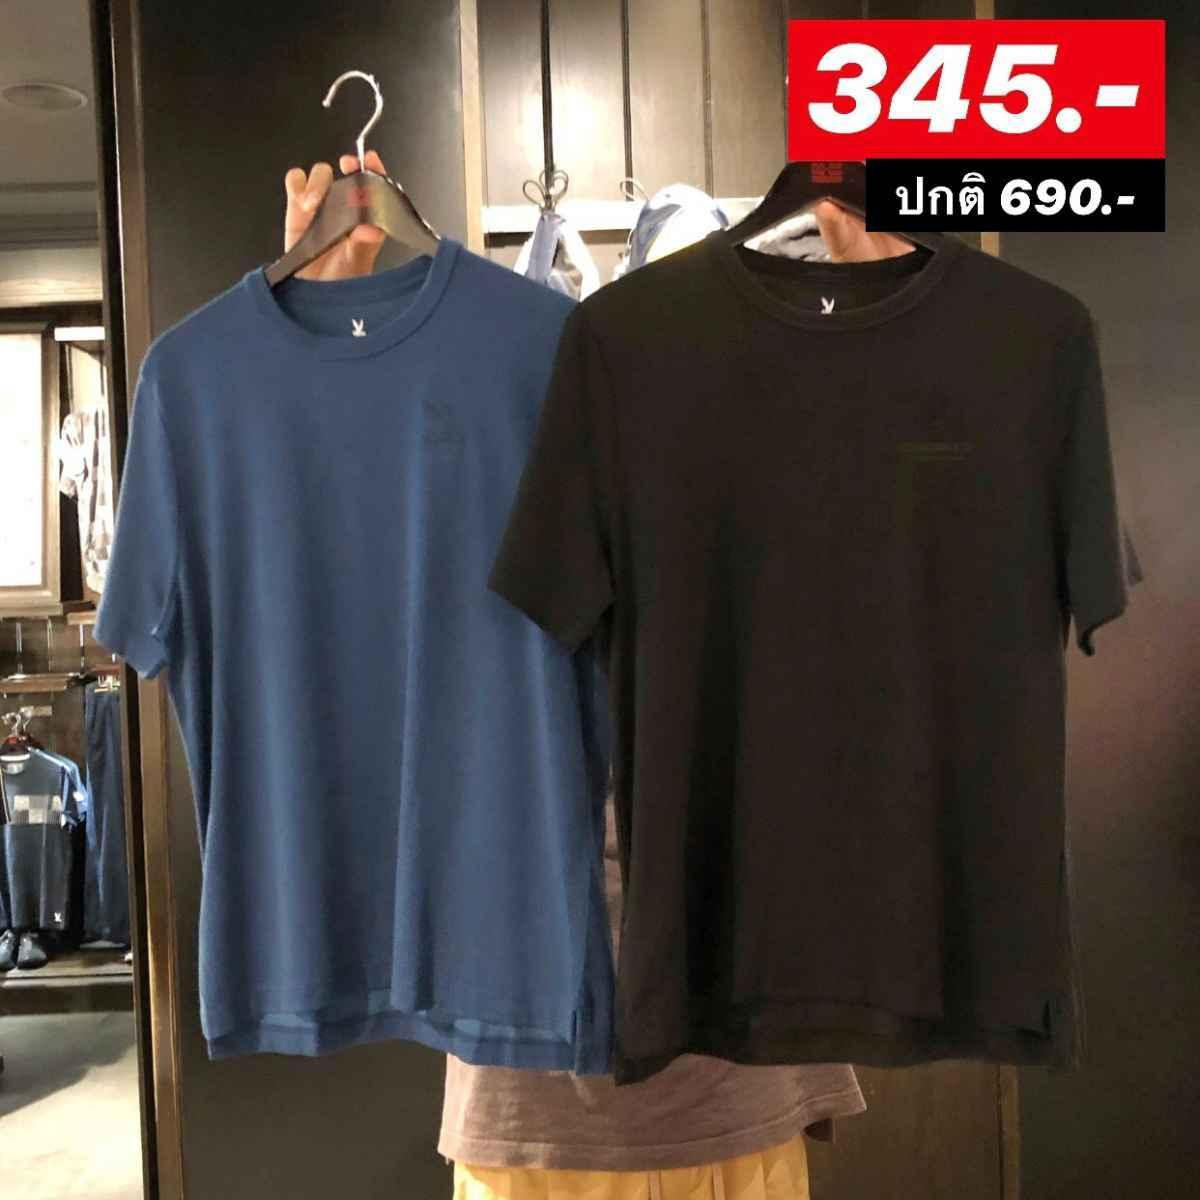Tshirt: (487, 219, 1125, 1085), (85, 229, 622, 1078)
